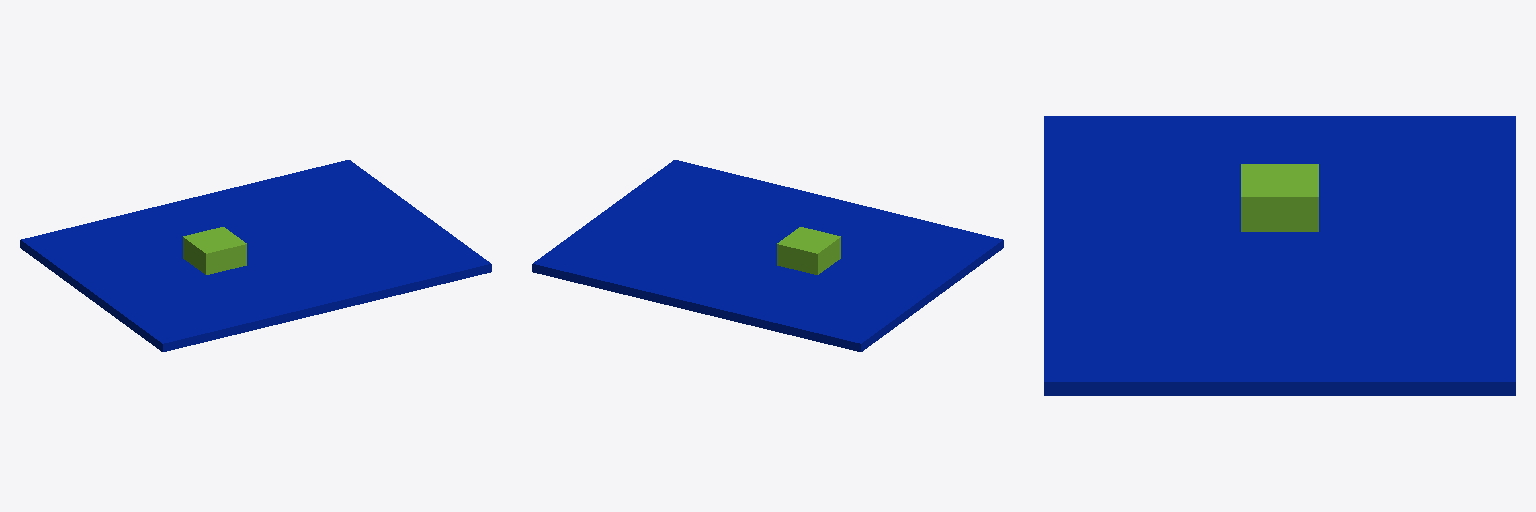
URDF robot description (panda):
<?xml version="1.0" ?>
<robot name="panda">

  <link name="floor">
    <visual>
      <origin xyz=".5 0 -0.05"/>
      <geometry>
        <box size="4 3 0.1"/>
      </geometry>
      <material name="purple">
        <color rgba=" .04 .2 .7 .9"/>
      </material>
    </visual>
  </link>

  <link name="box">
  <visual>
    <geometry>
      <box size=".5 .5 .5"/>
    </geometry>
    <material name="green">
      <color rgba=".5 0.75 .25 .8"/>
    </material>
  </visual>
  <inertial>
    <mass value="10."/>
    <inertia ixx="1." iyy="1." izz="1." ixy="0." ixz="0." iyz="0."/>
  </inertial>
  <!-- contact points -->
  <visual>
    <origin xyz="-.25 -.25 -.25"/>
    <geometry>
      <sphere radius=".025"/>
    </geometry>
    <material name="yellow">
      <color rgba=".9 .9 .2 1."/>
    </material>
  </visual>
  <collision>
    <origin xyz="-.25 -.25 -.25"/>
    <geometry>
      <sphere radius="0"/>
    </geometry>
  </collision>
  <visual>
    <origin xyz="-.25 .25 -.25"/>
    <geometry>
      <sphere radius=".025"/>
    </geometry>
    <material name="yellow">
      <color rgba=".9 .9 .2 1."/>
    </material>
  </visual>
  <collision>
    <origin xyz="-.25 .25 -.25"/>
    <geometry>
      <sphere radius="0"/>
    </geometry>
  </collision>
  <visual>
    <origin xyz=".25 -.25 -.25"/>
    <geometry>
      <sphere radius=".025"/>
    </geometry>
    <material name="yellow">
      <color rgba=".9 .9 .2 1."/>
    </material>
  </visual>
  <collision>
    <origin xyz=".25 -.25 -.25"/>
    <geometry>
      <sphere radius="0"/>
    </geometry>
  </collision>
  <visual>
    <origin xyz=".25 .25 -.25"/>
    <geometry>
      <sphere radius=".025"/>
    </geometry>
    <material name="yellow">
      <color rgba=".9 .9 .2 1."/>
    </material>
  </visual>
  <collision>
    <origin xyz=".25 .25 -.25"/>
    <geometry>
      <sphere radius="0"/>
    </geometry>
  </collision>
  </link>
  
  <joint name="floor_to_box" type="fixed">
    <parent link="floor"/>
    <child link="box"/>
    <origin xyz="0 0 0"/> <!-- this is important once we make it float -->
  </joint>
  
</robot>

--- Render facts (derived) ---
3 views of the same robot in one strip: view 1: azimuth 30°, elevation 25°; view 2: azimuth 150°, elevation 25°; view 3: azimuth 270°, elevation 25° (orthographic).
Robot: panda — 2 links, 1 joints (1 fixed); root link floor; default pose: all joints at 0.
Visible links, largest first — view 1: floor, box; view 2: floor, box; view 3: floor, box.
Boxes of the visible links, box(x1,y1,x2,y2) form: floor: box(20, 160, 491, 351); box: box(183, 227, 246, 274); floor: box(532, 160, 1003, 351); box: box(777, 227, 840, 274); floor: box(1044, 116, 1515, 395); box: box(1241, 164, 1318, 231).
Bounding box of the posed robot: 4 × 3 × 0.525 m (x, y, z).
Geometry: primitives only (box / cylinder / sphere), no mesh files.